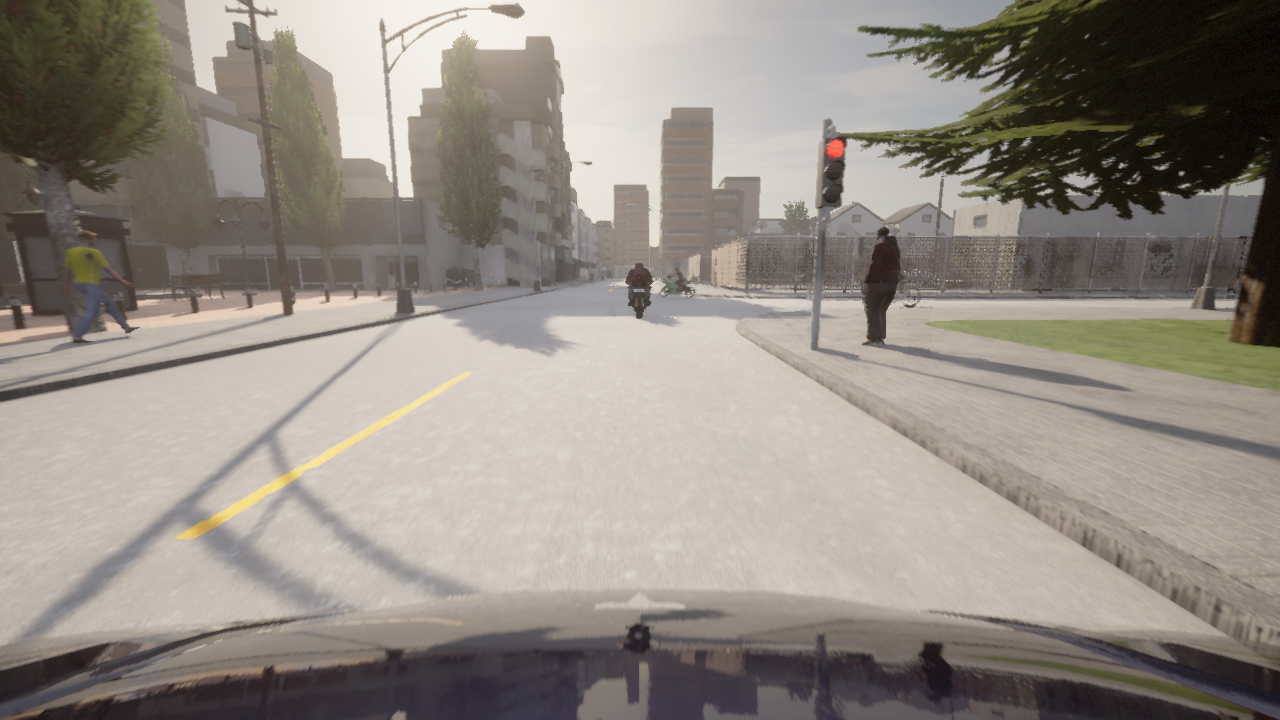cyclist: (0, 588, 1279, 719), (625, 274, 653, 317), (660, 274, 697, 298), (892, 279, 919, 306), (912, 269, 940, 283), (781, 271, 813, 282), (750, 266, 772, 280), (823, 270, 847, 282), (791, 273, 810, 283), (901, 271, 917, 281), (935, 271, 940, 273)
pedestrian: (63, 230, 141, 344), (860, 225, 900, 346)
